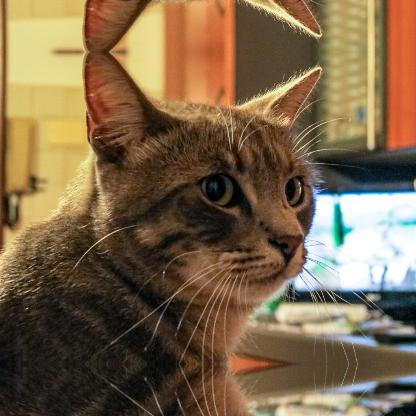Cat: (1, 52, 387, 362)
